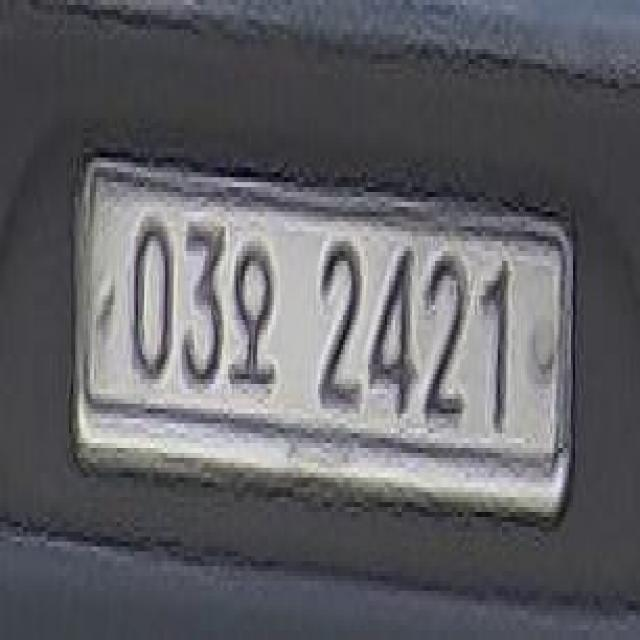illegal_plate: (78, 151, 576, 530)
